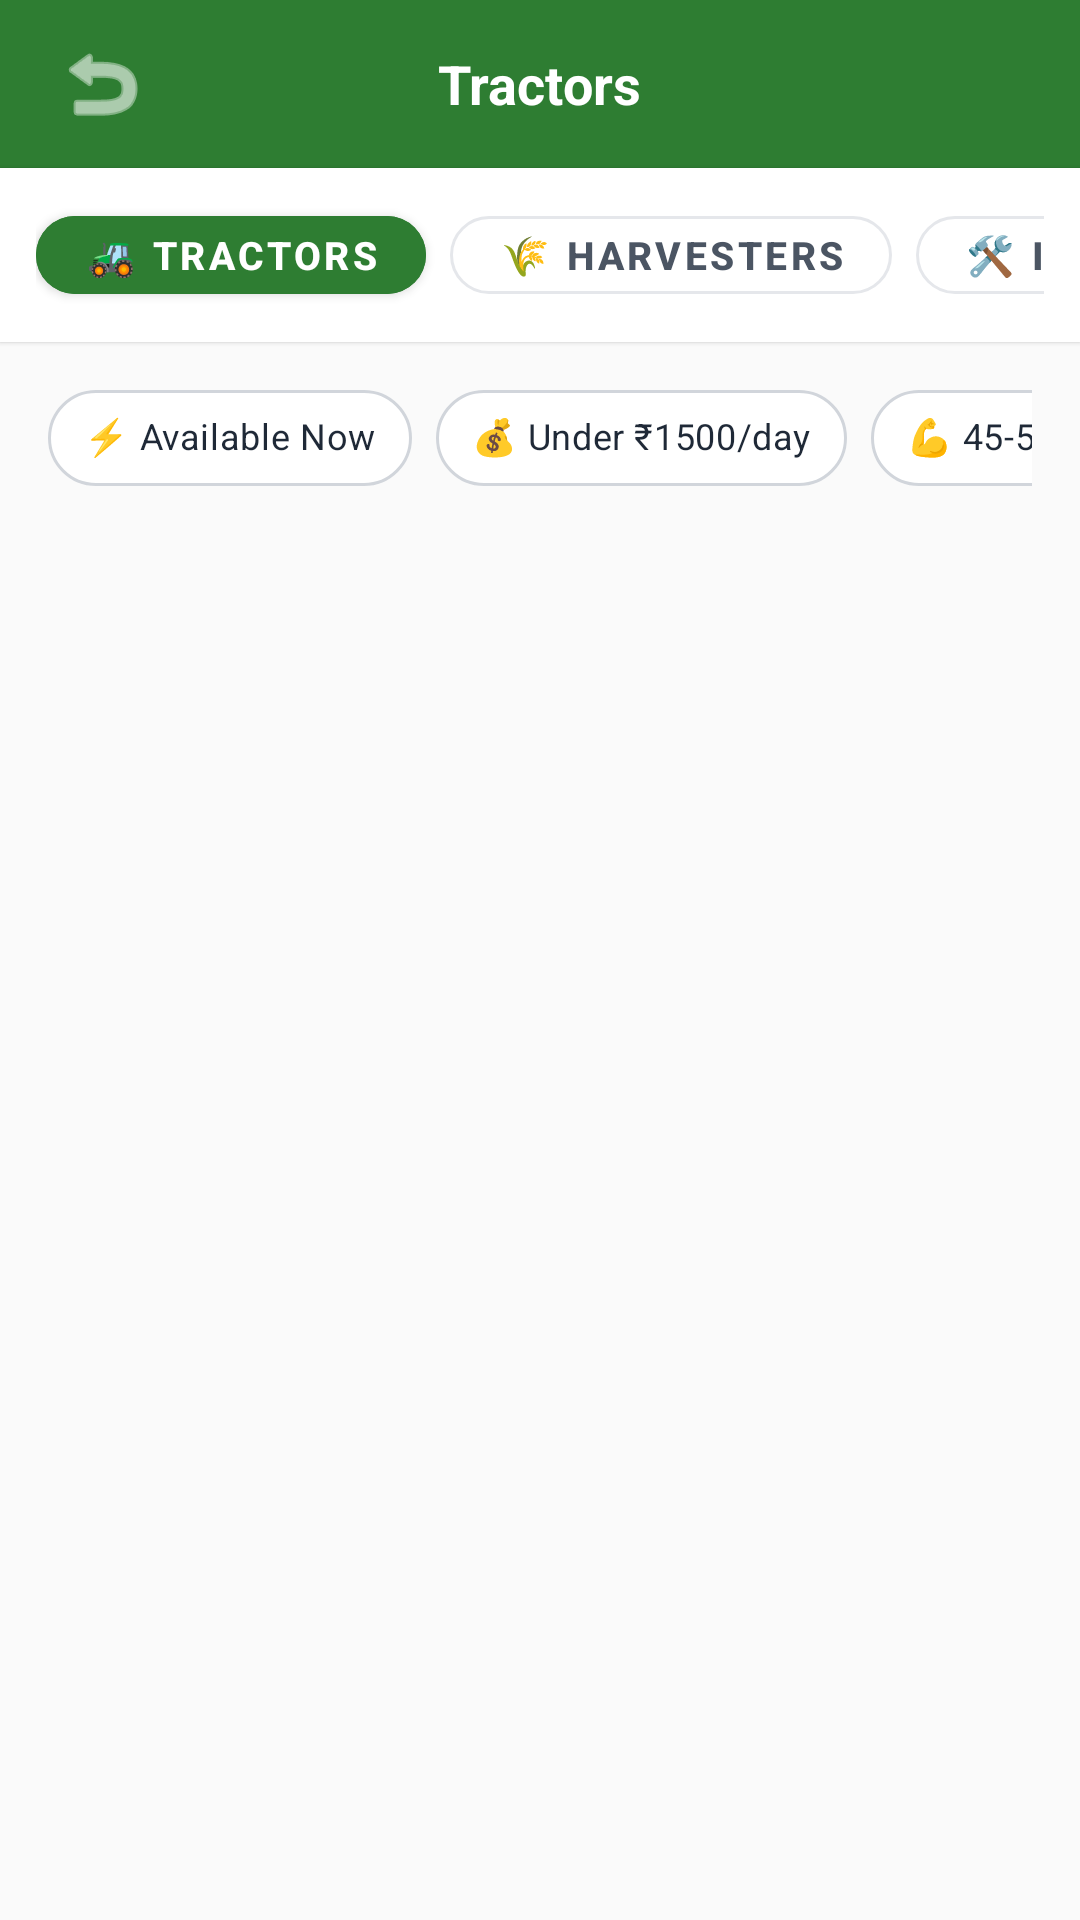

Screen size 1080px×1920px. Icon name, then its box in pixels as (x1=x1, y1=y1, x2=x2, y2=y2):
revert: (x1=69, y1=53, x2=138, y2=116)
